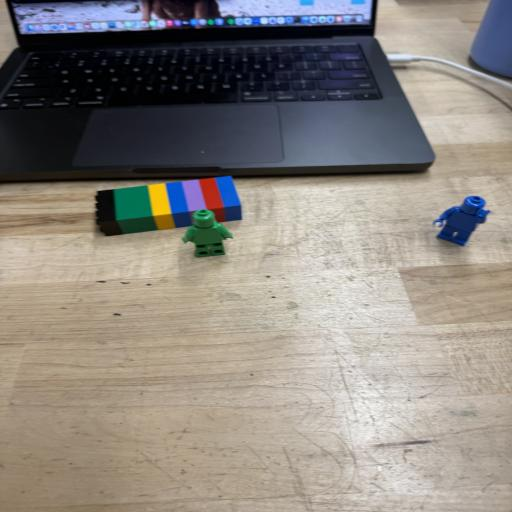blue-minifig: (476, 207, 477, 208), (477, 208, 477, 209)
green-minifig: (182, 209, 233, 257)
